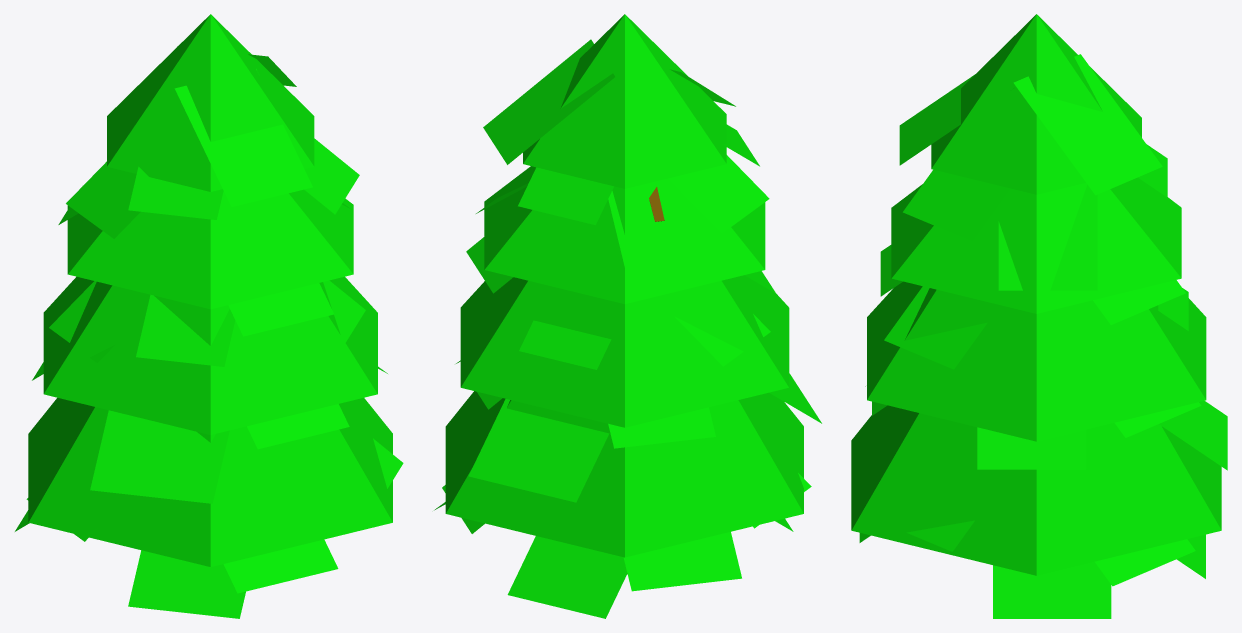
The model's file is PB_tree.fbx.
3 renders of one model, left to right at view 1: azimuth 30°, elevation 25°; view 2: azimuth 150°, elevation 25°; view 3: azimuth 270°, elevation 25°, orthographic. The views are drawn at different scales.
Parts seen in each view (by area): view 1: pCone4, pCone3, pCone2, pCone1, pPlane21, pPlane4, pPlane22, pPlane20, pPlane1, pPlane3, pPlane15, pPlane19 (+5 smaller); view 2: pCone3, pCone4, pCone1, pCone2, pPlane9, pPlane8, pPlane23, pPlane26, pPlane25, pPlane15, pPlane11, pPlane10 (+5 smaller); view 3: pCone4, pCone3, pCone2, pCone1, pPlane26, pPlane5, pPlane16, pPlane7, pPlane6, pPlane17, pPlane4, pPlane9 (+8 smaller).
Part boxes in pixels (<box>): pCone4: <box>28,397,392,566</box>; pCone3: <box>43,276,377,434</box>; pCone2: <box>67,189,353,309</box>; pCone1: <box>107,14,314,191</box>; pPlane21: <box>90,410,229,503</box>; pPlane4: <box>174,69,312,206</box>; pPlane22: <box>128,550,245,618</box>; pPlane20: <box>136,294,235,366</box>; pPlane1: <box>223,539,338,593</box>; pPlane3: <box>228,283,333,336</box>; pPlane15: <box>66,161,140,238</box>; pPlane19: <box>128,166,223,219</box>; pCone3: <box>460,275,789,427</box>; pCone4: <box>445,391,803,557</box>; pCone1: <box>523,14,726,188</box>; pCone2: <box>484,166,765,304</box>; pPlane9: <box>469,399,609,502</box>; pPlane8: <box>507,536,627,618</box>; pPlane23: <box>608,178,718,273</box>; pPlane26: <box>483,39,614,164</box>; pPlane25: <box>623,532,741,591</box>; pPlane15: <box>668,155,769,233</box>; pPlane11: <box>518,167,613,224</box>; pPlane10: <box>519,320,611,369</box>; pCone4: <box>851,405,1221,575</box>; pCone3: <box>867,281,1206,441</box>; pCone2: <box>891,177,1181,313</box>; pCone1: <box>931,14,1141,194</box>; pPlane26: <box>1013,54,1162,195</box>; pPlane5: <box>993,562,1111,618</box>; pPlane16: <box>903,169,1010,241</box>; pPlane7: <box>998,184,1097,290</box>; pPlane6: <box>977,427,1086,469</box>; pPlane17: <box>884,286,987,369</box>; pPlane4: <box>899,74,1013,165</box>; pPlane9: <box>1159,401,1227,470</box>.
Bounding box in the file's own units: 1.12 × 1.61 × 0.9843.
